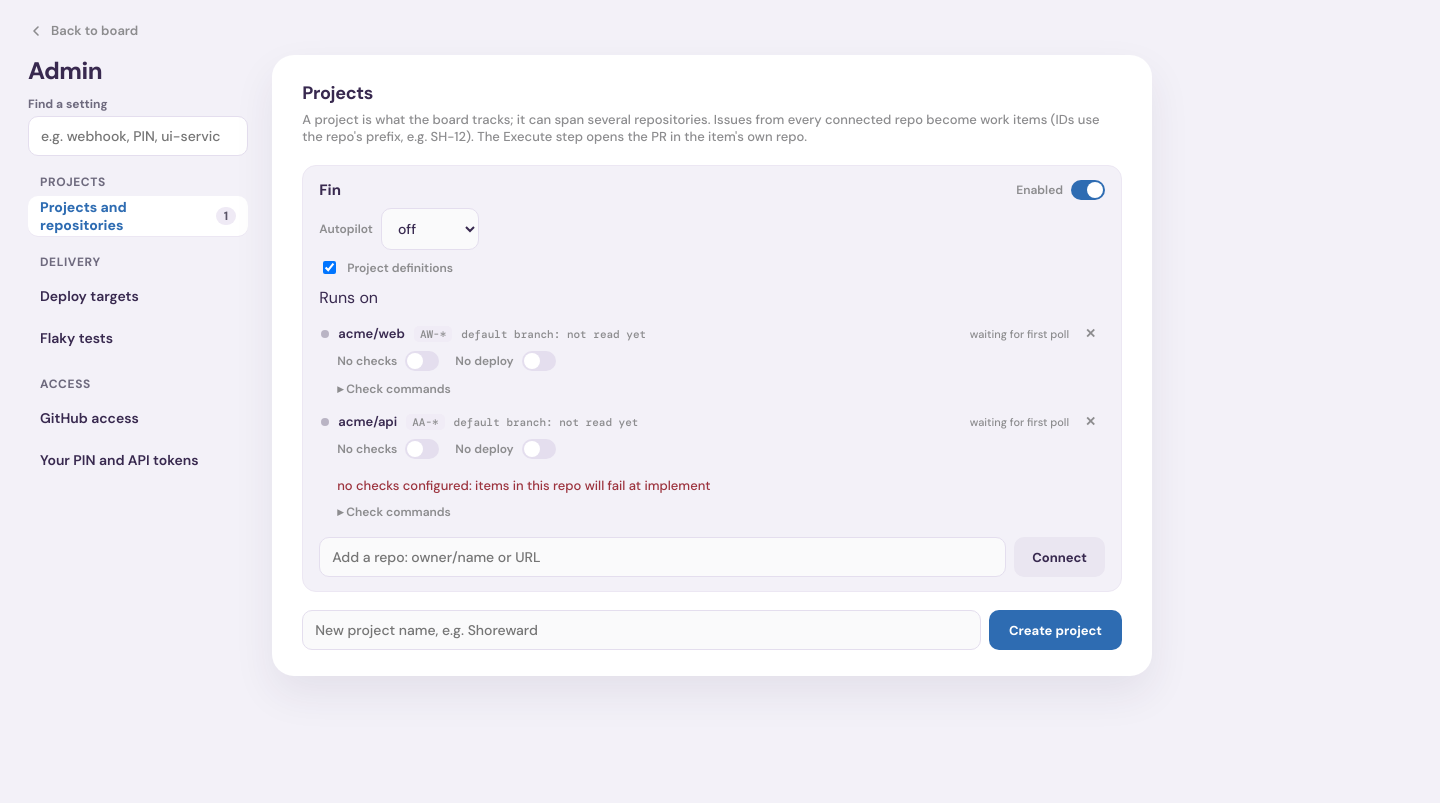
Test: the Screenshots slot is a fifth command box, saved with the PIN like the others
Click the 1st button "▸ Check commands": (394, 389) [337,381,451,397]
(page scrolled)
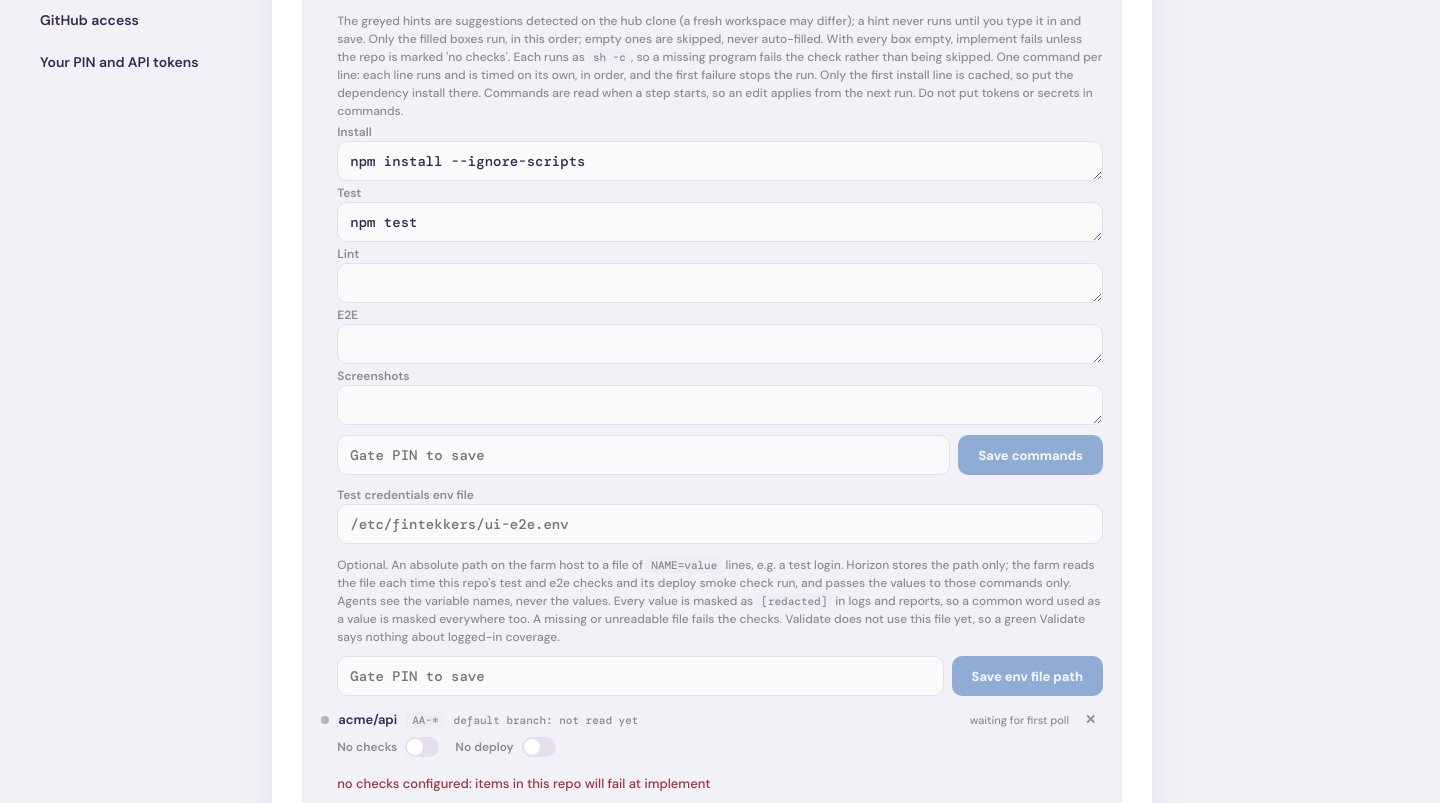
In the text box named "Screenshots command for acme/web": (720, 405) [337,385,1103,425], type "node scripts/shots.mjs"
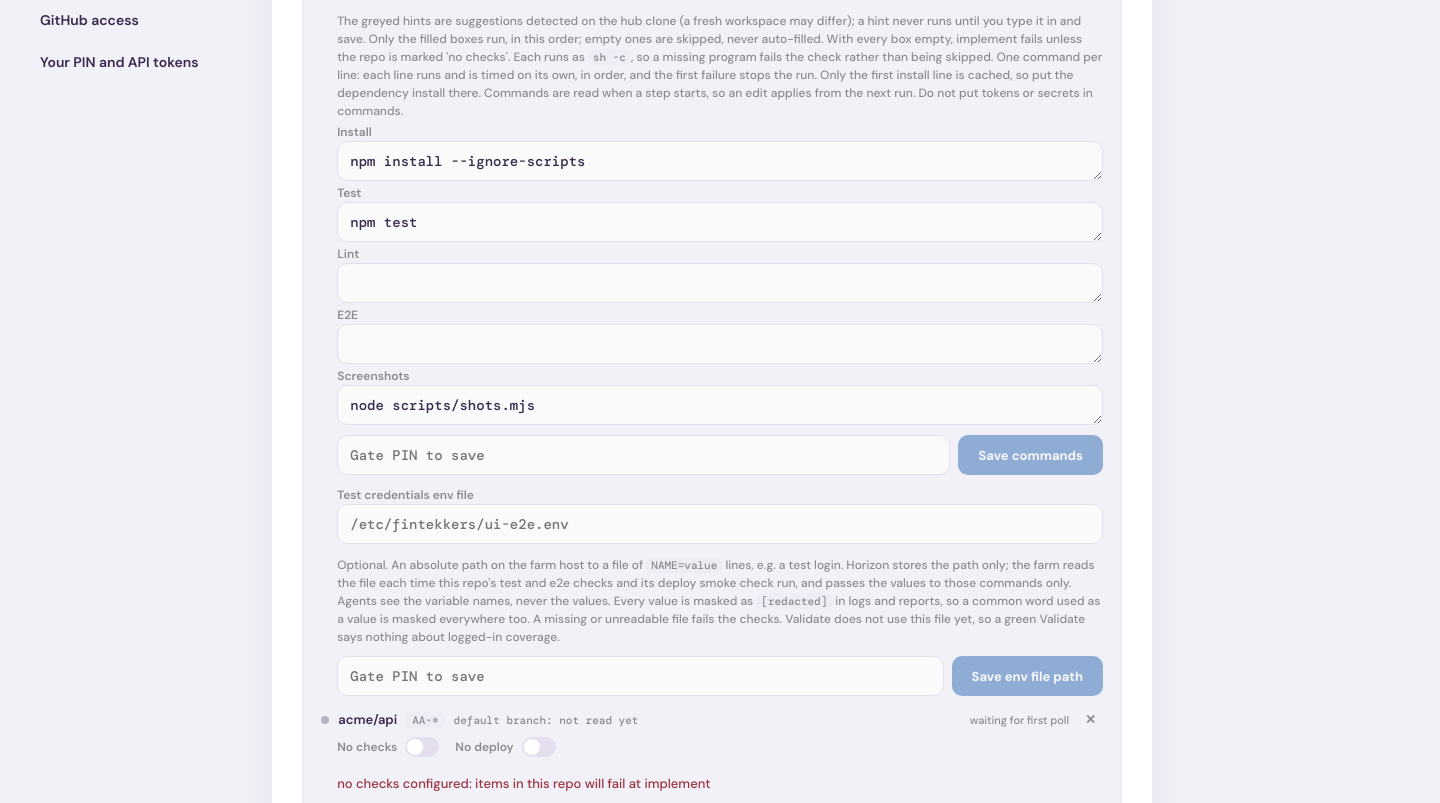
In the password field named "Gate PIN to save check commands for acme/web": (644, 455) [337,435,950,475], type "right-pin"
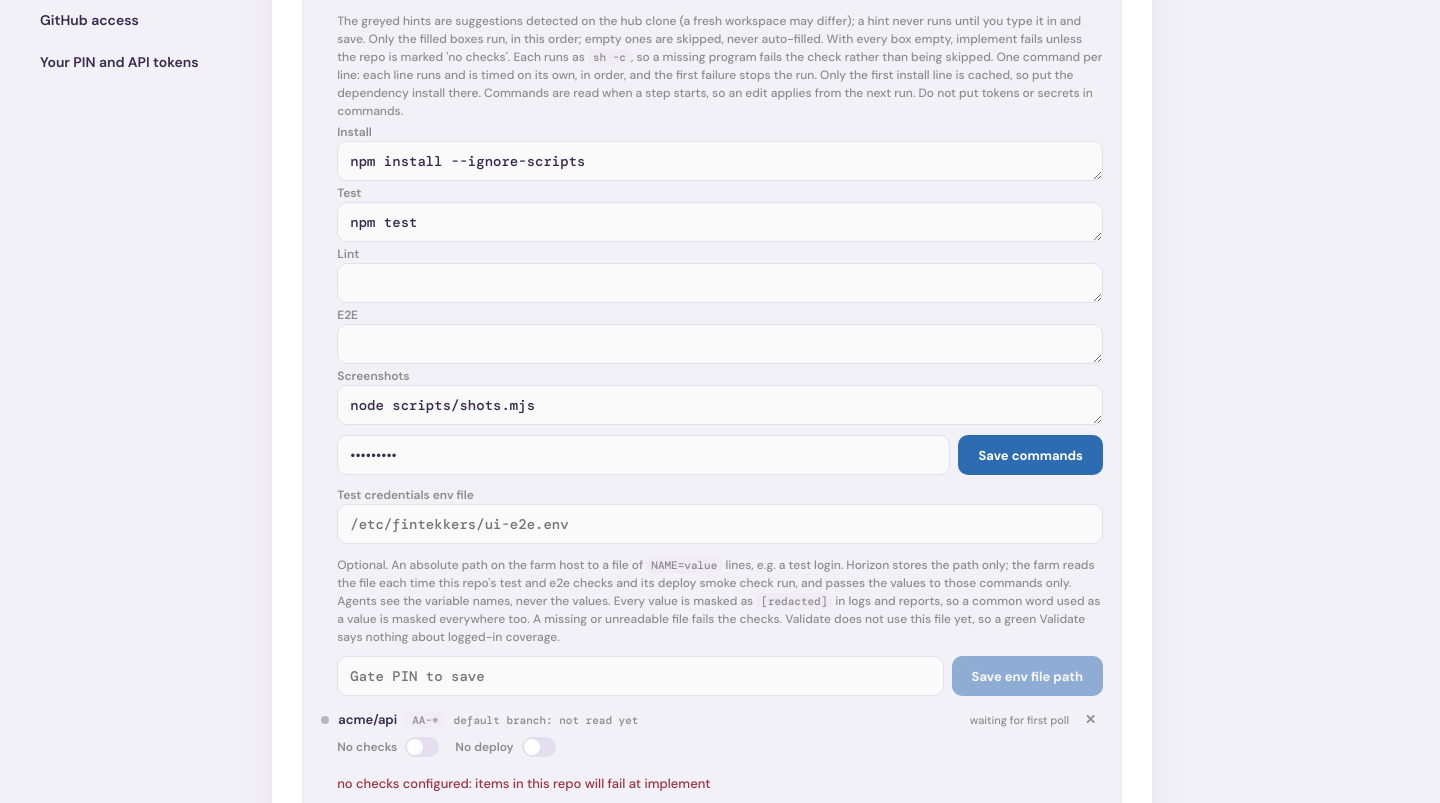
Click the button "Save commands": (1031, 455) [958,435,1103,475]
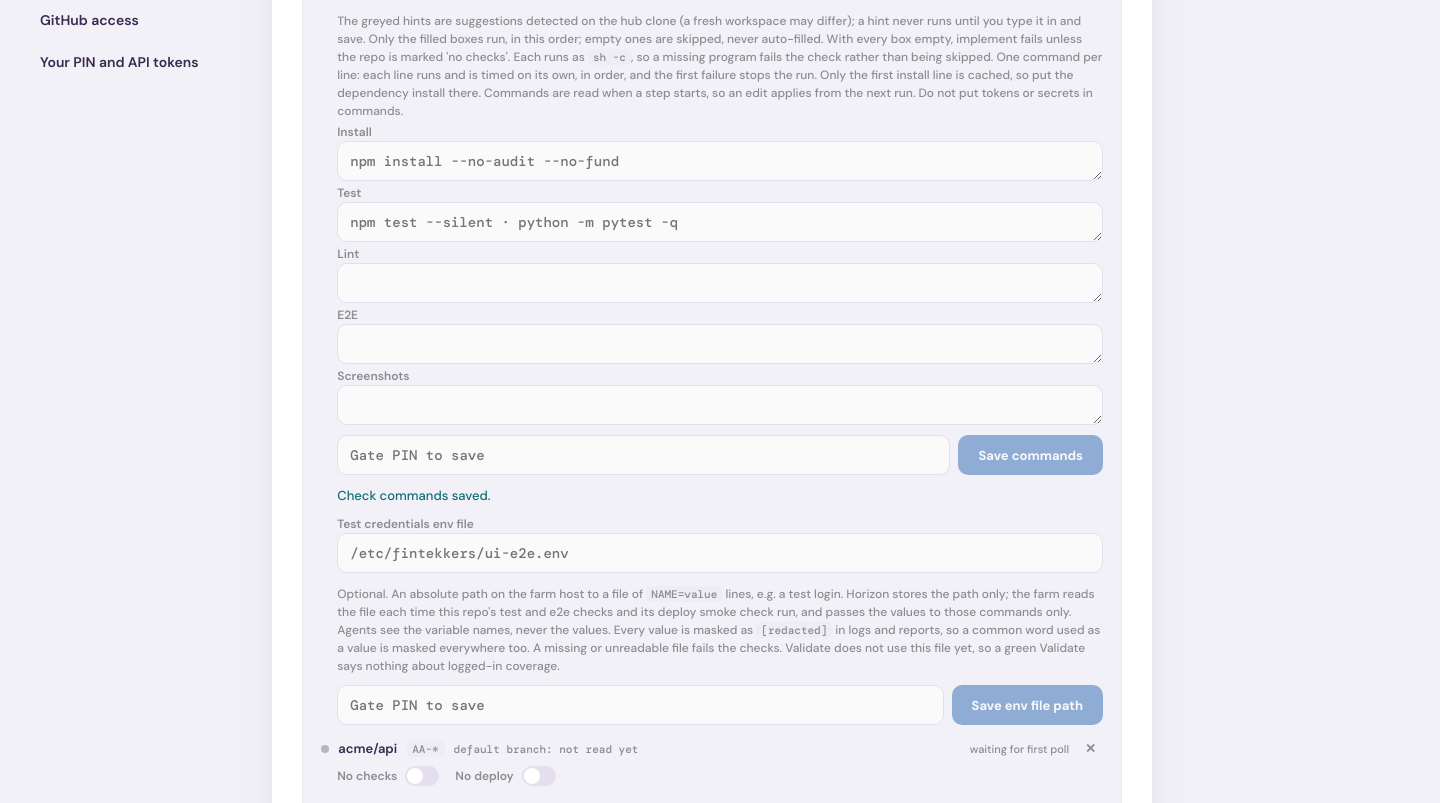
Expected: the text "Check commands saved." is shown, [337,487,490,504]
